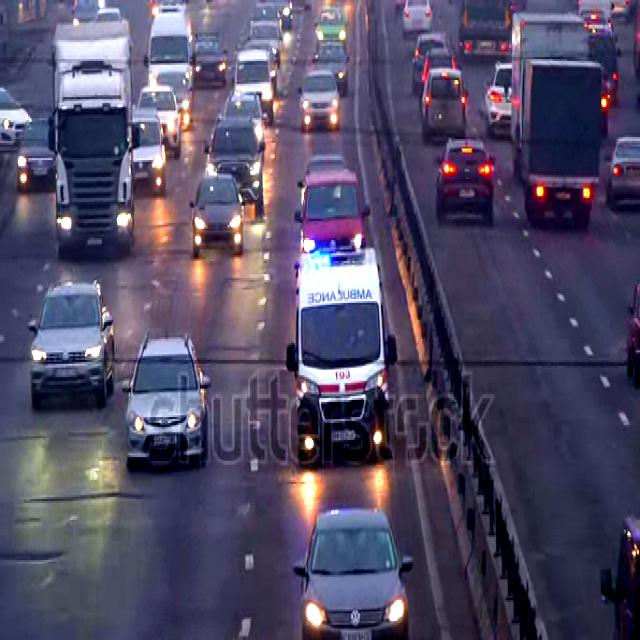ambulance: (286, 246, 396, 476)
